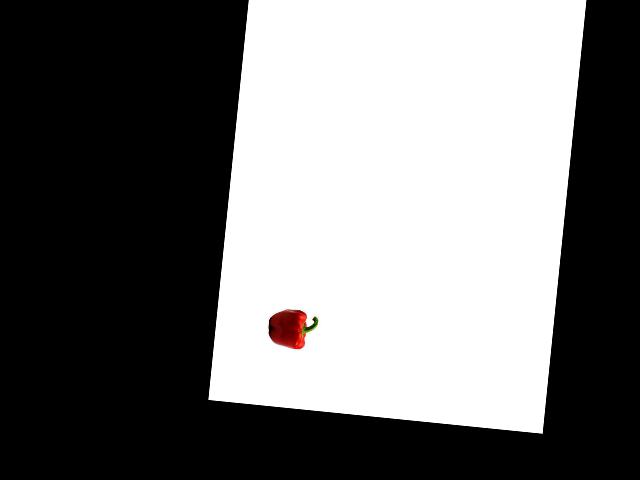bell_pepper: (264, 304, 320, 353)
